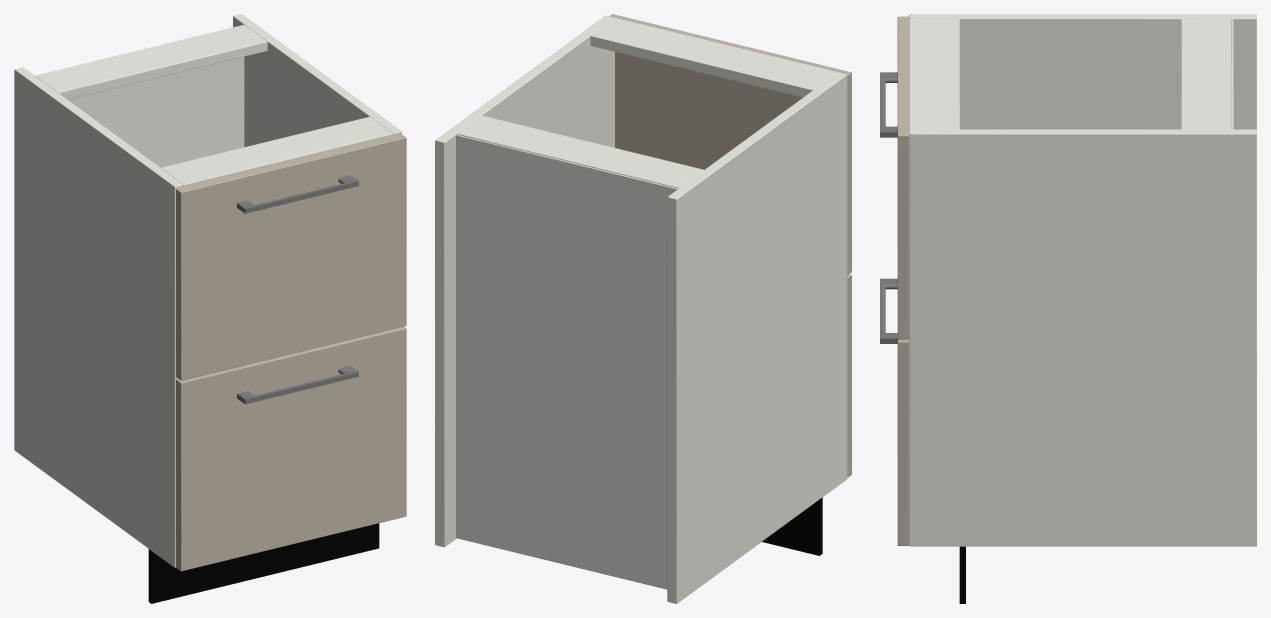
The picture shows the model from 3 angles, left to right: view 1: azimuth 30°, elevation 25°; view 2: azimuth 150°, elevation 25°; view 3: azimuth 270°, elevation 25°; orthographic projection. The views are drawn at different scales.
Parts seen in each view (by area): view 1: r22, Stranica Leva, Leđa, Stranica Desna, Vezna Zadnja H, Vezna Prednja H, Union (×2); view 2: Leđa, Stranica Leva, Stranica Desna, r22, Vezna Prednja H, Vezna Zadnja H; view 3: Stranica Desna, Stranica Leva, r22, Vezna Prednja H, Vezna Zadnja H, Union (×2).
Boxes of the visible parts, x1,y1,x2,y2 form: r22: (148,134,406,603); Stranica Leva: (14,67,183,567); Leđa: (68,57,244,167); Stranica Desna: (233,14,402,147); Vezna Zadnja H: (35,24,267,99); Vezna Prednja H: (161,116,393,186); Union (×2): (237,175,358,404); Leđa: (456,134,678,589); Stranica Leva: (667,72,847,603); Stranica Desna: (435,15,614,547); r22: (609,14,851,555); Vezna Prednja H: (590,18,837,97); Vezna Zadnja H: (457,115,703,188); Stranica Desna: (909,129,1256,546); Stranica Leva: (909,14,1256,129); r22: (897,16,965,603); Vezna Prednja H: (909,18,959,129); Vezna Zadnja H: (1181,18,1231,129); Union (×2): (880,72,897,343).
Size of the model in its own units: 0.45 by 0.82 by 0.596.
4 materials, 2 textured.
